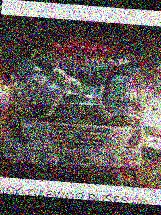bus: (3, 39, 150, 176)
